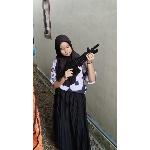Senapan: (51, 41, 103, 87)
